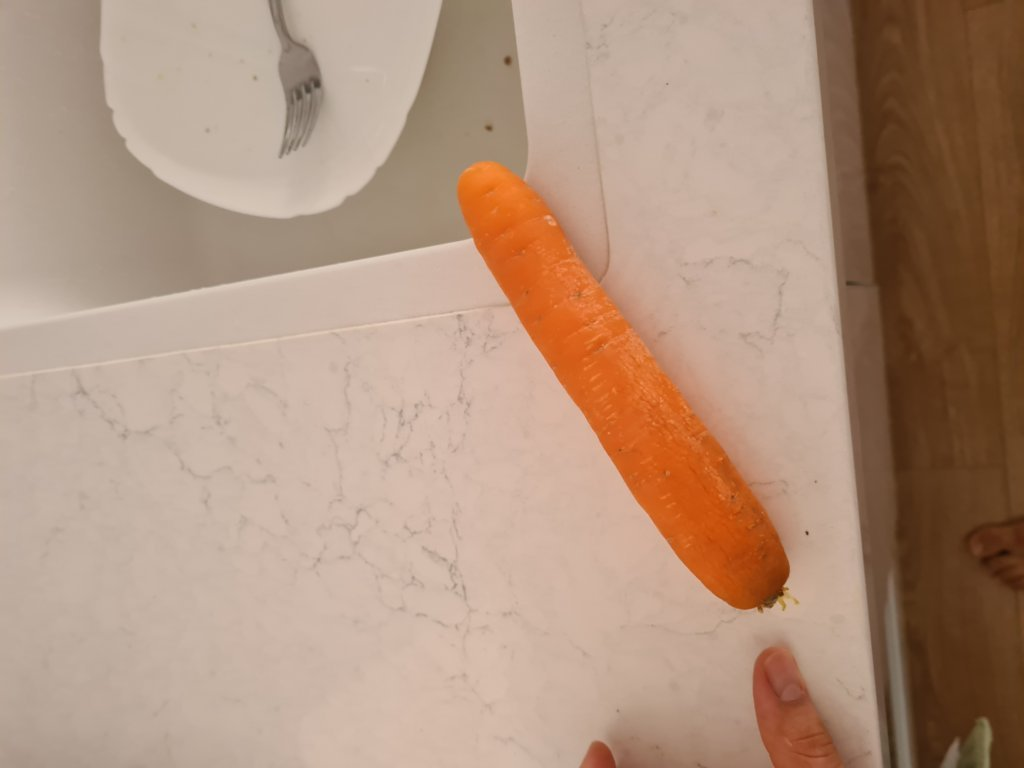carrot: (450, 160, 798, 619)
